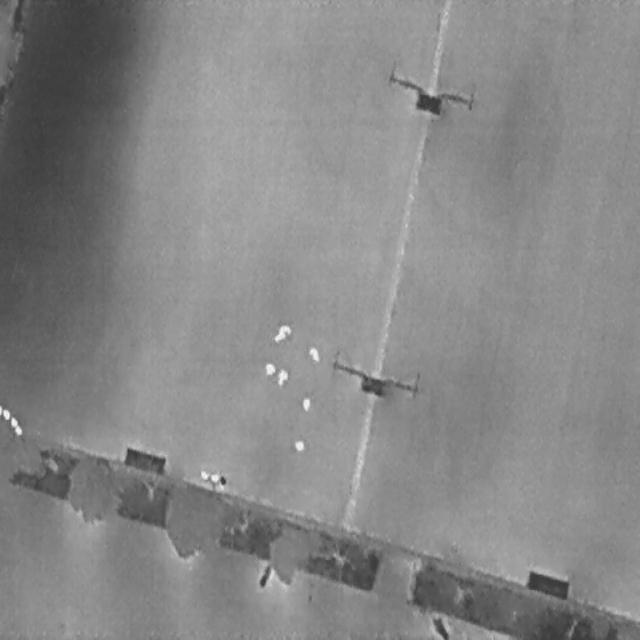Person: (273, 324, 290, 341), (306, 344, 320, 364), (276, 367, 287, 385), (264, 361, 275, 375), (301, 395, 310, 411), (294, 439, 303, 451)
